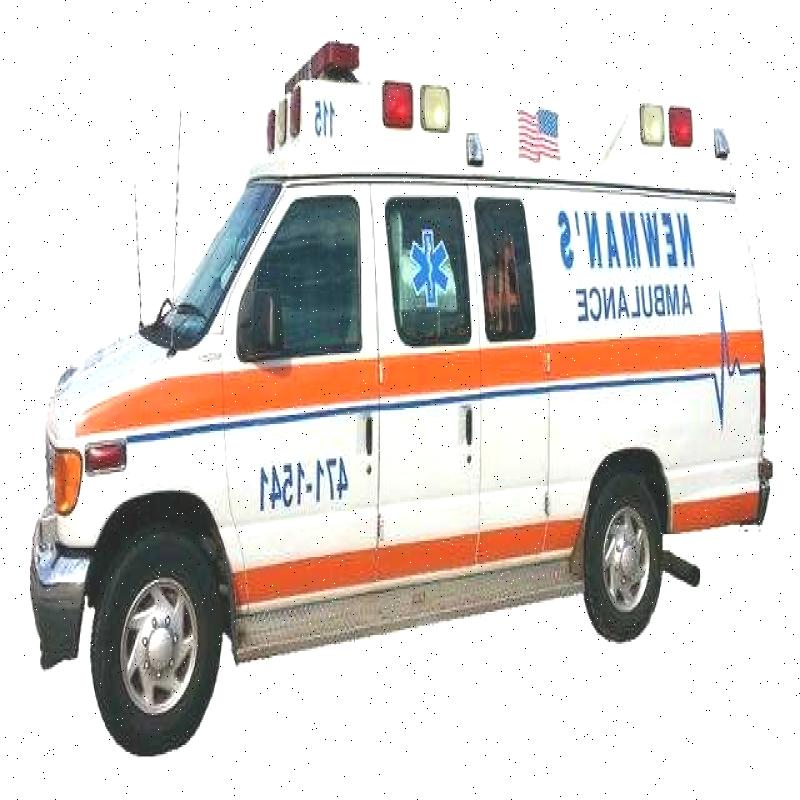AmbulanceSiren: (280, 27, 364, 101), (382, 71, 460, 144), (633, 101, 695, 148)
